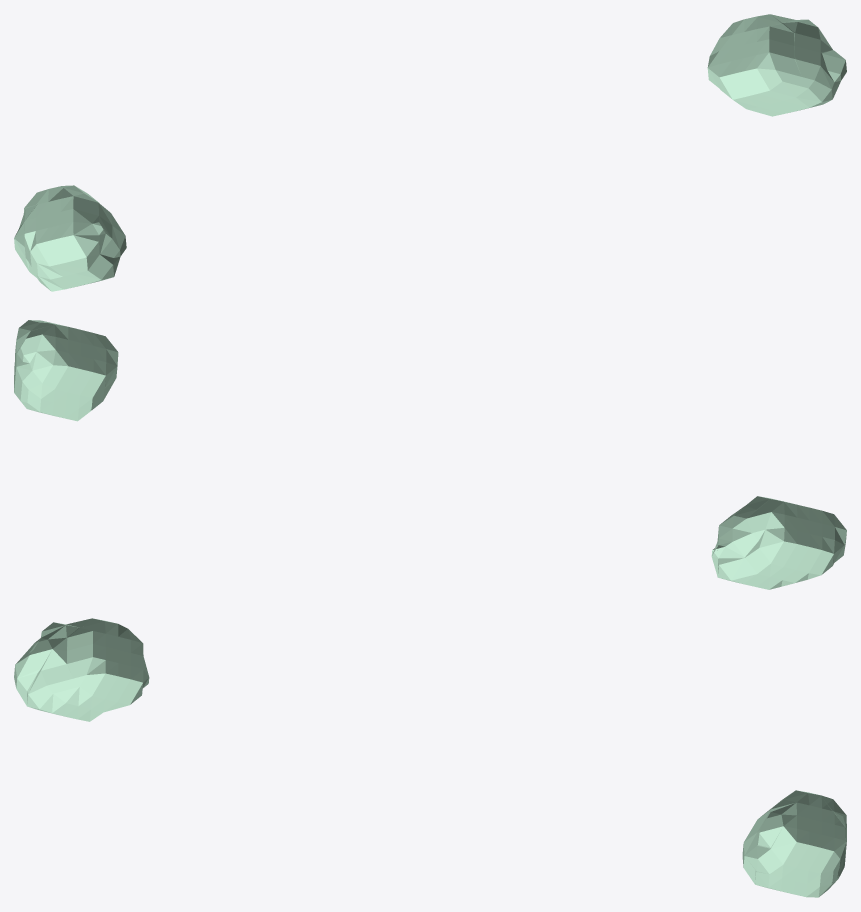
Rendered from VFB_00102174.glb.
The picture shows the model from 3 angles, top to bottom: view 1: azimuth 30°, elevation 25°; view 2: azimuth 150°, elevation 25°; view 3: azimuth 330°, elevation 25°; orthographic projection.
Visible parts, largest first — view 1: VFB_00102174; view 2: VFB_00102174; view 3: VFB_00102174.
Part boxes in pixels (x1,y1,x2,y2): VFB_00102174: [14, 14, 846, 291]; VFB_00102174: [14, 320, 846, 589]; VFB_00102174: [14, 618, 846, 897].
Size of the model in its own units: 0.1369 by 0.0125 by 0.0157.
